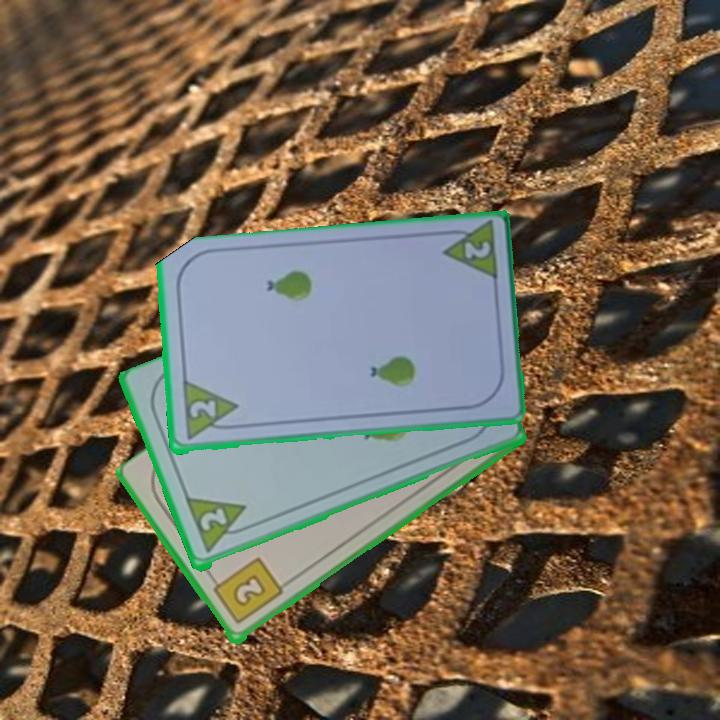2b: (207, 554, 286, 628)
2p: (436, 220, 501, 285), (178, 379, 241, 444), (196, 505, 230, 535)
